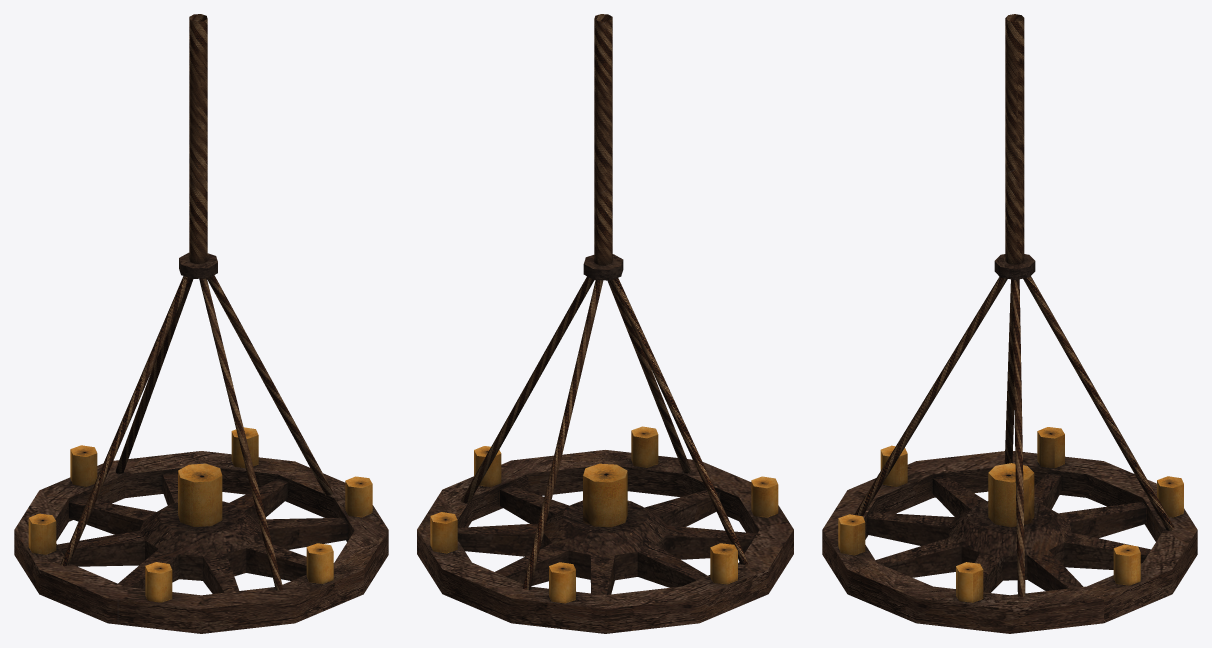
Rendered from Chandelier1.FBX.
3 renders of one model, left to right at view 1: azimuth 30°, elevation 25°; view 2: azimuth 150°, elevation 25°; view 3: azimuth 270°, elevation 25°, orthographic.
Parts seen in each view (by area): view 1: Chandelier1; view 2: Chandelier1; view 3: Chandelier1.
Boxes of the visible parts, x1,y1,x2,y2 form: Chandelier1: (14,14,388,633); Chandelier1: (417,14,793,633); Chandelier1: (822,14,1197,633).
Size of the model in its own units: 151 by 237 by 151.
